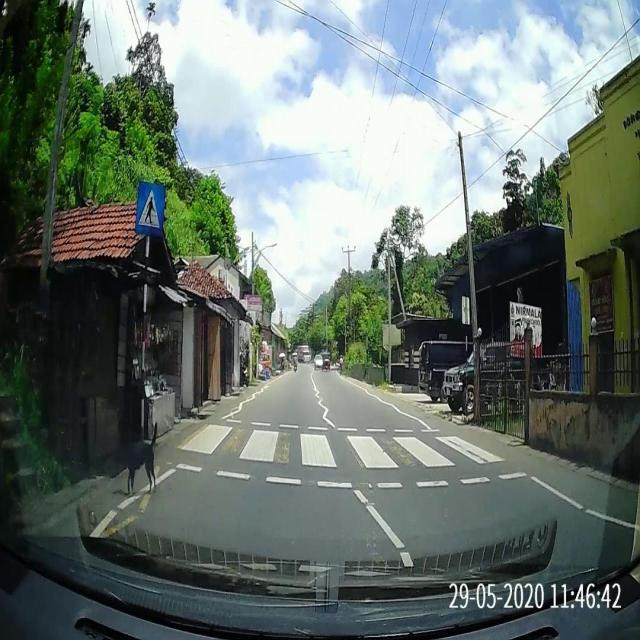Crosswalk: (176, 423, 510, 469)
